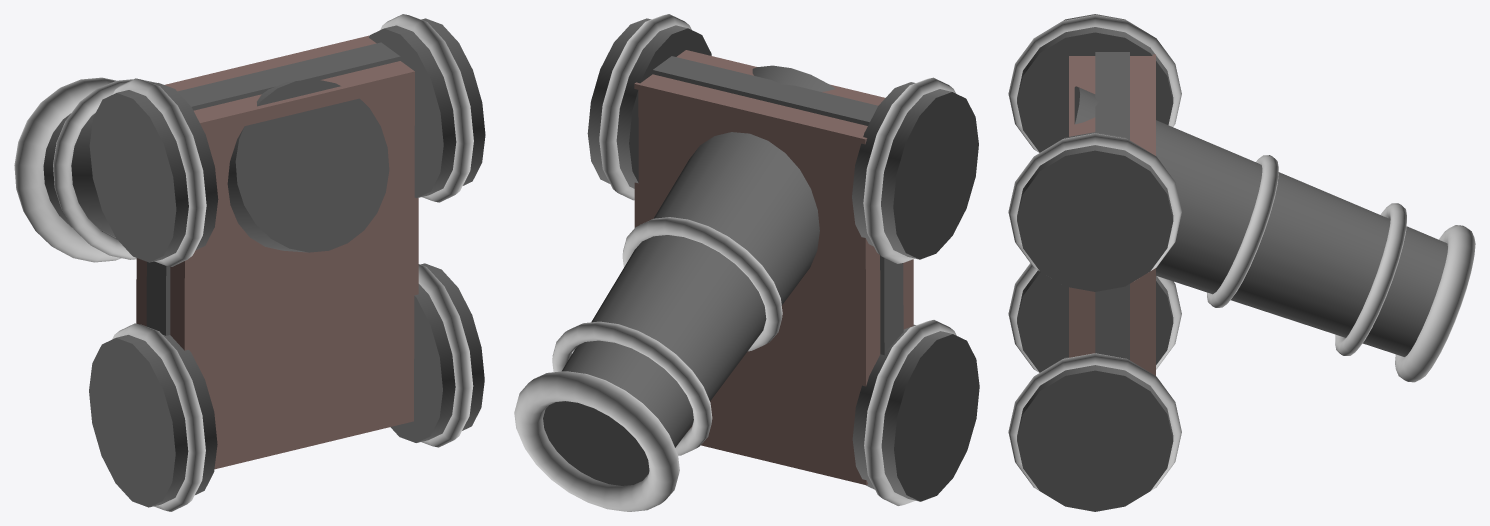
Rendered from cannon_Tower.fbx.
3 views of the same model, side by side, from view 1: azimuth 30°, elevation 25°; view 2: azimuth 150°, elevation 25°; view 3: azimuth 270°, elevation 25° (orthographic). The views are drawn at different scales.
Visible parts, largest first — view 1: imagetostl_mesh0, imagetostl_mesh10, imagetostl_mesh6, imagetostl_mesh8, imagetostl_mesh2, imagetostl_mesh4, imagetostl_mesh14, imagetostl_mesh1, imagetostl_mesh11, imagetostl_mesh9, imagetostl_mesh7, imagetostl_mesh3 (+1 smaller); view 2: imagetostl_mesh0, imagetostl_mesh10, imagetostl_mesh6, imagetostl_mesh8, imagetostl_mesh14, imagetostl_mesh1, imagetostl_mesh2, imagetostl_mesh11, imagetostl_mesh12, imagetostl_mesh7, imagetostl_mesh9, imagetostl_mesh3; view 3: imagetostl_mesh10, imagetostl_mesh2, imagetostl_mesh4, imagetostl_mesh0, imagetostl_mesh6, imagetostl_mesh1, imagetostl_mesh8, imagetostl_mesh14, imagetostl_mesh3, imagetostl_mesh5, imagetostl_mesh7, imagetostl_mesh11 (+2 smaller).
Part boxes in pixels (x1,y1,x2,y2): imagetostl_mesh0: (136, 35, 418, 469); imagetostl_mesh10: (43, 79, 389, 252); imagetostl_mesh6: (89, 83, 218, 262); imagetostl_mesh8: (89, 335, 217, 507); imagetostl_mesh2: (369, 18, 485, 197); imagetostl_mesh4: (390, 263, 484, 442); imagetostl_mesh14: (14, 77, 121, 262); imagetostl_mesh1: (146, 42, 400, 335); imagetostl_mesh11: (53, 79, 156, 259); imagetostl_mesh9: (112, 323, 205, 511); imagetostl_mesh7: (113, 78, 206, 266); imagetostl_mesh3: (380, 14, 473, 202); imagetostl_mesh0: (634, 50, 913, 485); imagetostl_mesh10: (543, 65, 835, 485); imagetostl_mesh6: (852, 82, 978, 259); imagetostl_mesh8: (852, 324, 979, 501); imagetostl_mesh14: (514, 371, 679, 511); imagetostl_mesh1: (652, 56, 903, 355); imagetostl_mesh2: (587, 18, 711, 188); imagetostl_mesh11: (552, 321, 712, 455); imagetostl_mesh12: (622, 217, 782, 351); imagetostl_mesh7: (863, 77, 955, 263); imagetostl_mesh9: (864, 320, 956, 505); imagetostl_mesh3: (599, 14, 691, 200); imagetostl_mesh10: (1039, 86, 1447, 356); imagetostl_mesh2: (1017, 132, 1173, 291); imagetostl_mesh4: (1017, 357, 1173, 511); imagetostl_mesh0: (1069, 54, 1155, 375); imagetostl_mesh6: (1017, 14, 1173, 151); imagetostl_mesh1: (1095, 52, 1129, 359); imagetostl_mesh8: (1017, 270, 1173, 372); imagetostl_mesh14: (1395, 225, 1475, 382); imagetostl_mesh3: (1008, 133, 1181, 270); imagetostl_mesh5: (1008, 353, 1181, 490); imagetostl_mesh7: (1008, 15, 1181, 152); imagetostl_mesh11: (1335, 203, 1406, 355).
Size of the model in its own units: 3714 by 4810 by 5382.
